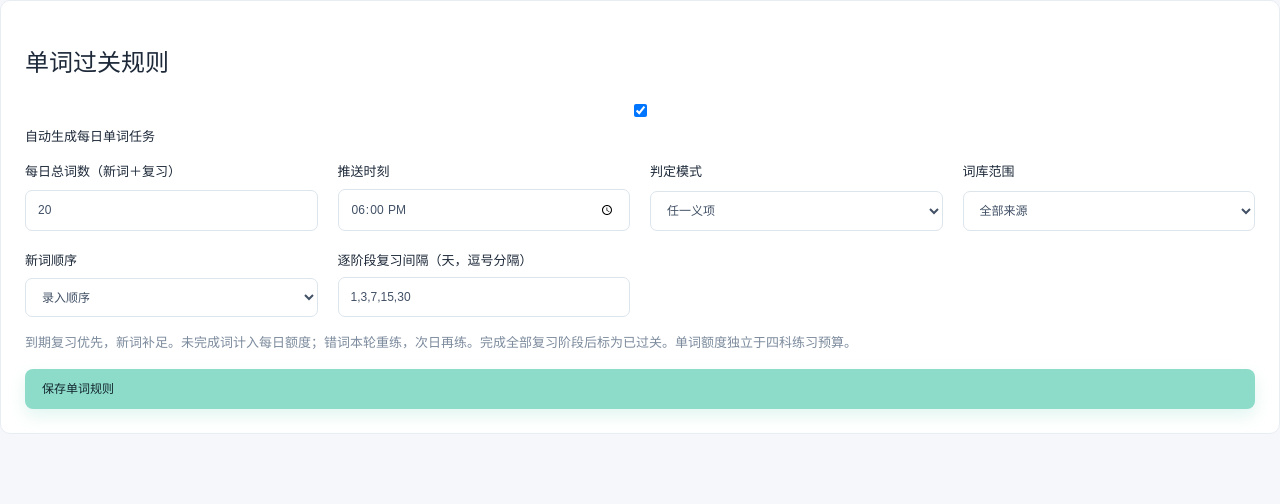
Test: confirmed study workflows › saves configurable word quota and review intervals
Replace the text in the number field labelled "每日总词数（新词＋复习）" with "35" at (171, 210), box [25,190,318,231]
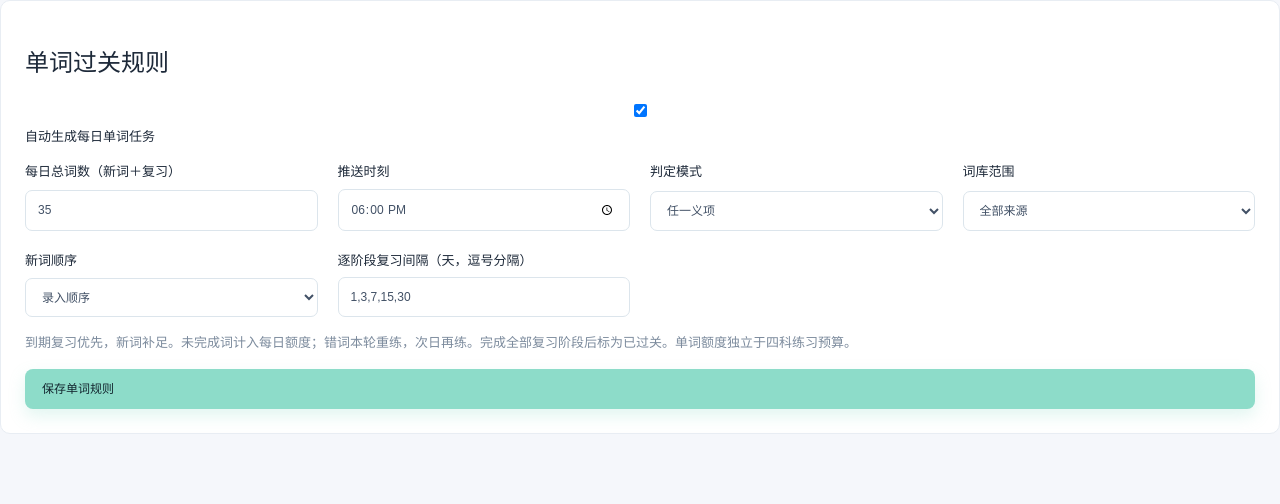
Replace the text in the field labelled "逐阶段复习间隔（天，逗号分隔）" with "2,5,10" at (484, 297), box [338,277,630,317]
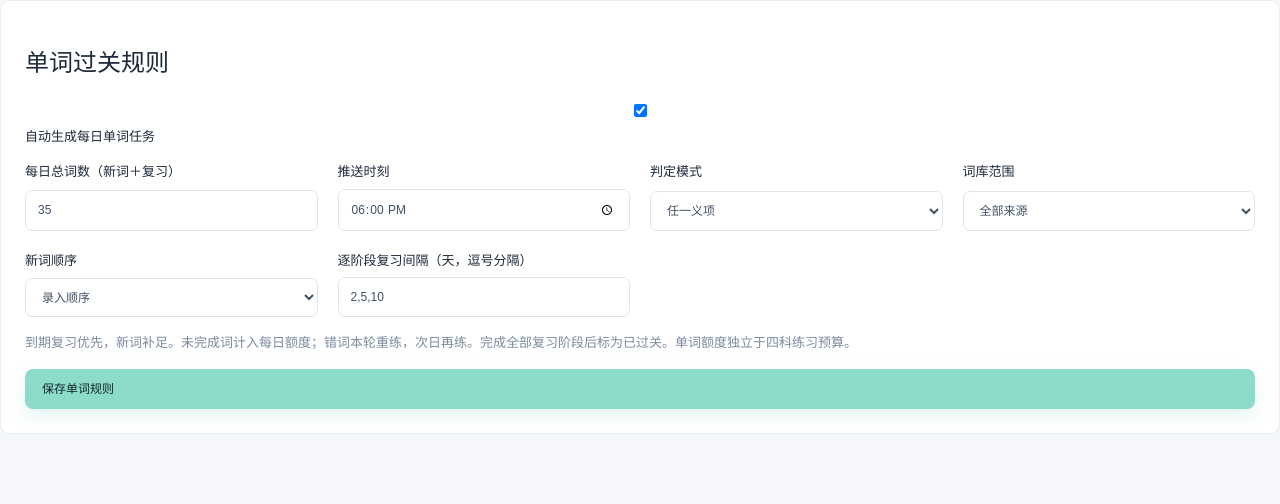
Click the button "保存单词规则".
click(78, 389)  # box [25,369,1255,409]
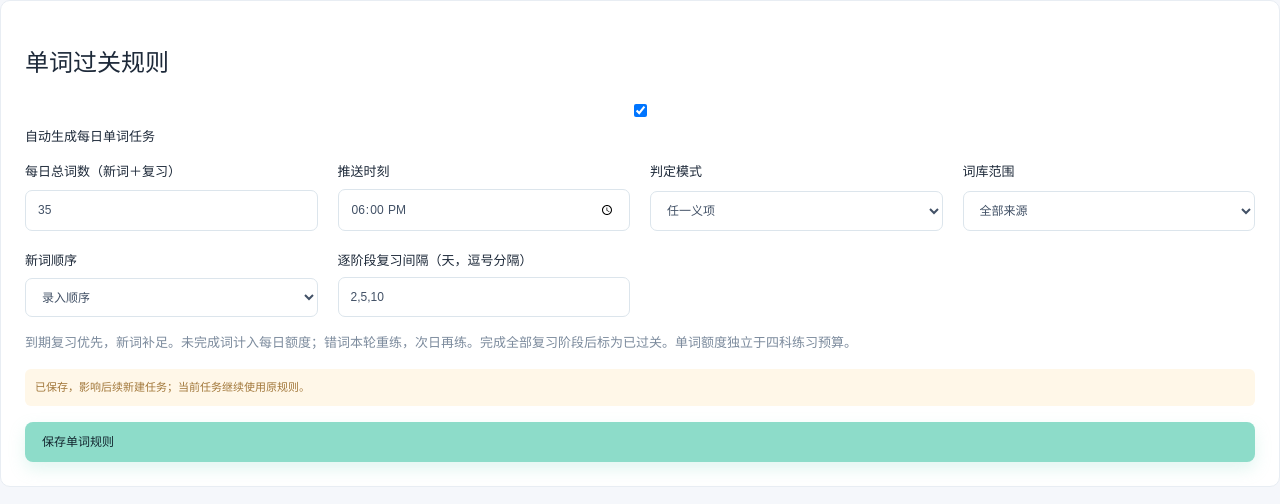
Check: the text "已保存，影响后续新建任务；当前任务继续使用原规则。" is shown, box [25,369,1255,406]
